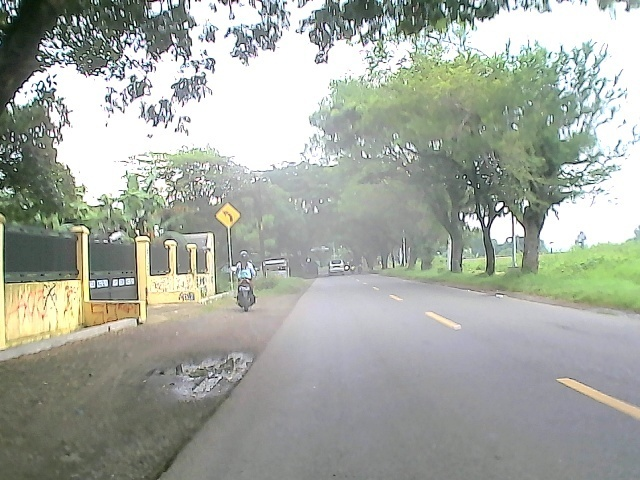Tikungan ke kiri: (214, 201, 241, 229)
